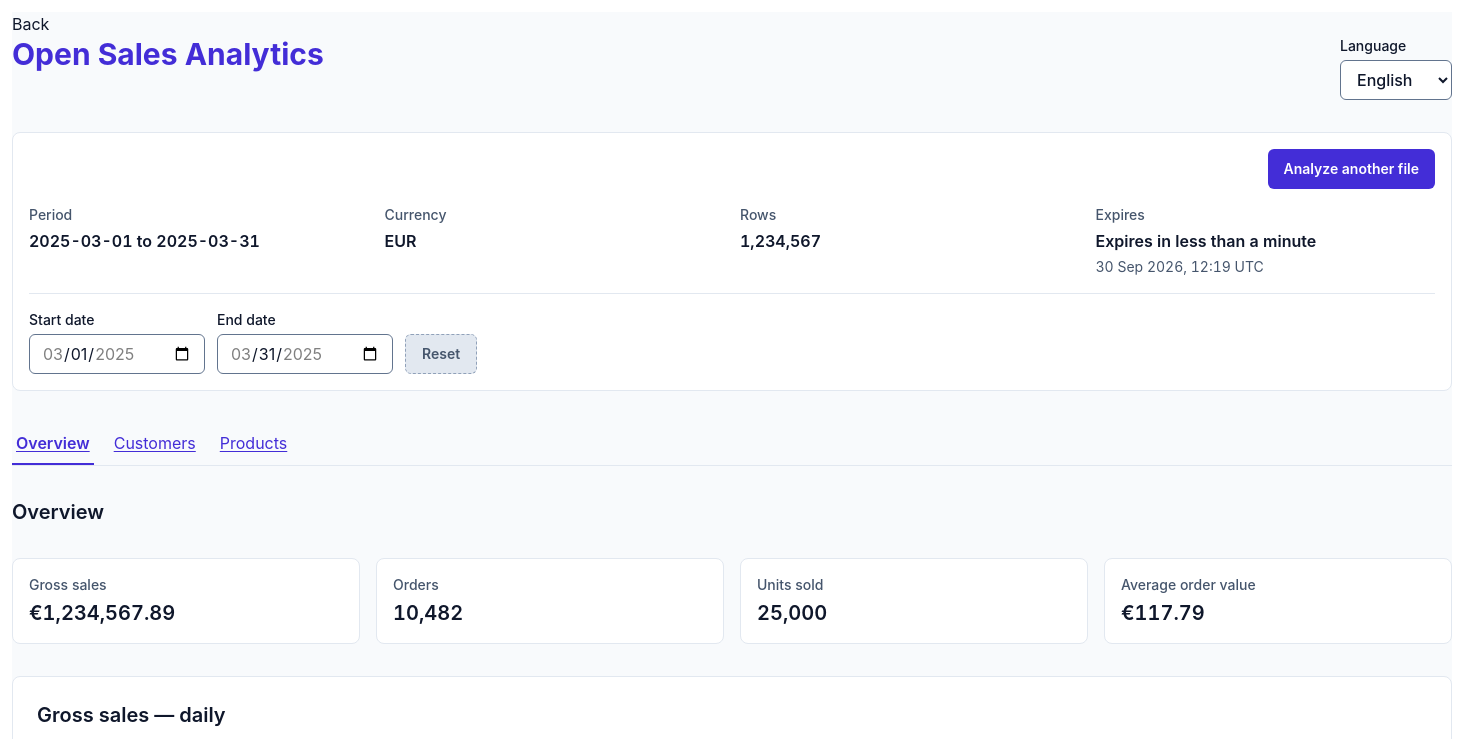
Scenario: start after end shows the inverted message under Start date, sends nothing, and clears when fixed
Expected: the date field showing "2025-03-01" is shown, [29,334,205,374]
Expected: the text "10,482" is shown, [393,601,463,625]
Type "2025-03-10" into the date field labelled "End date" at (305, 354), box [217,334,393,374]
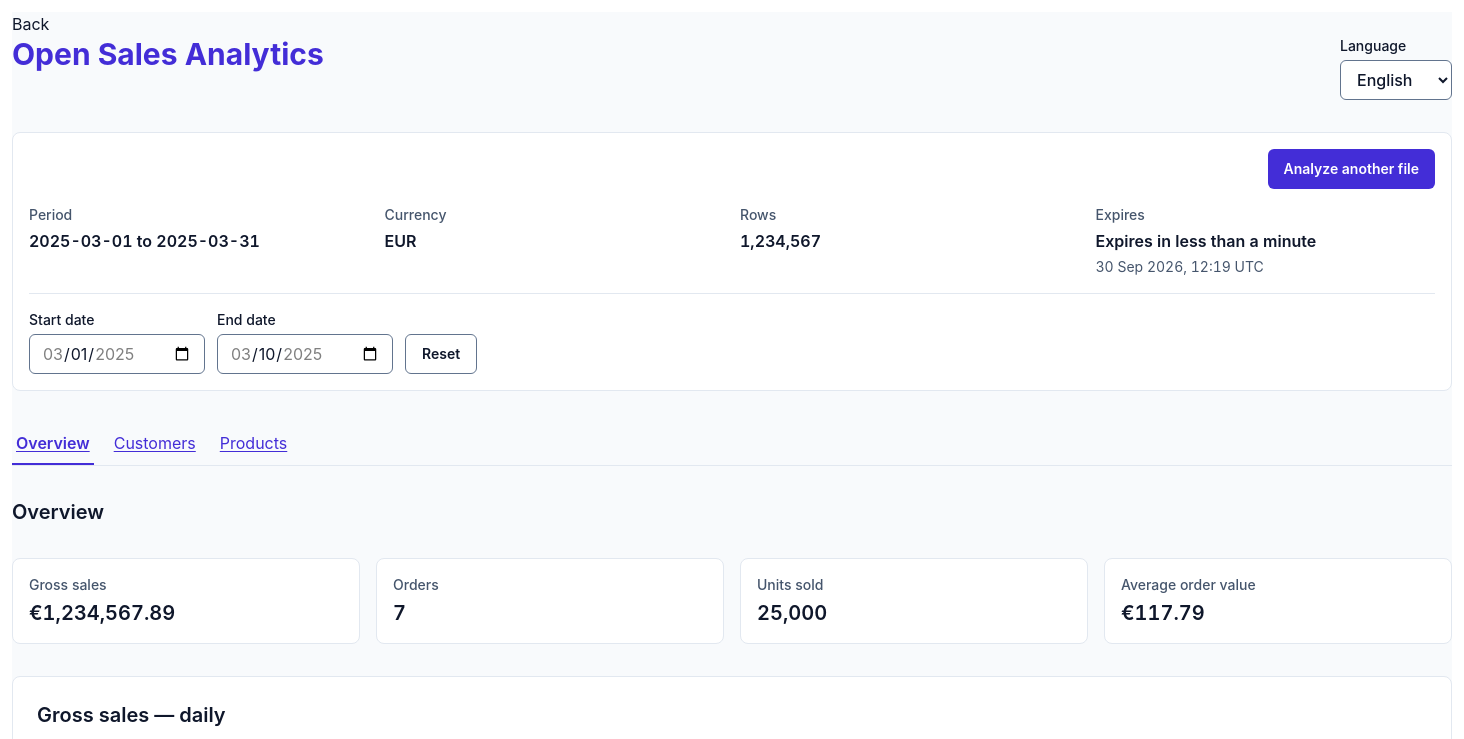
Type "2025-03-20" into the date field labelled "Start date" at (117, 354), box [29,334,205,374]
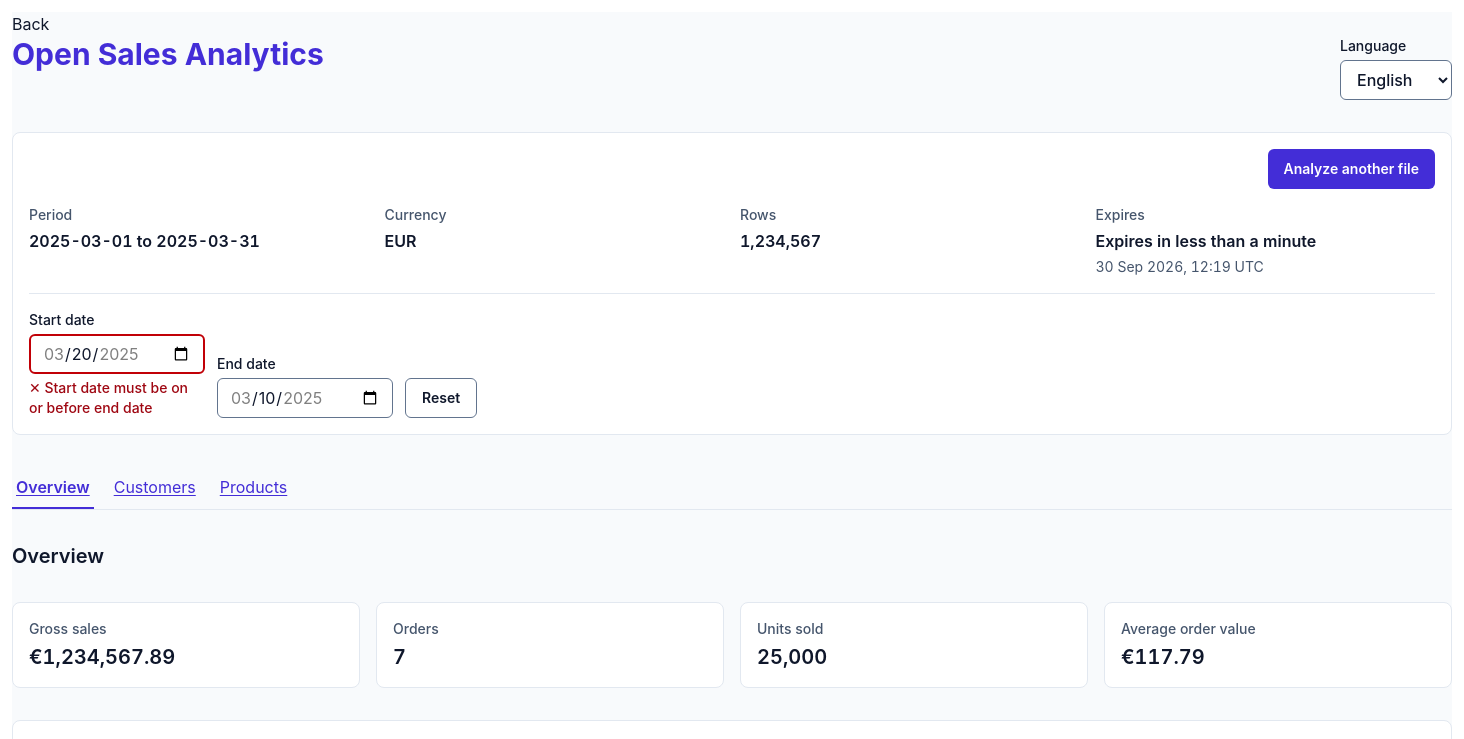
Expected: the date field labelled "Start date" is marked as invalid, [29,334,205,374]
Type "2025-03-25" into the date field labelled "End date" at (305, 398), box [217,378,393,418]
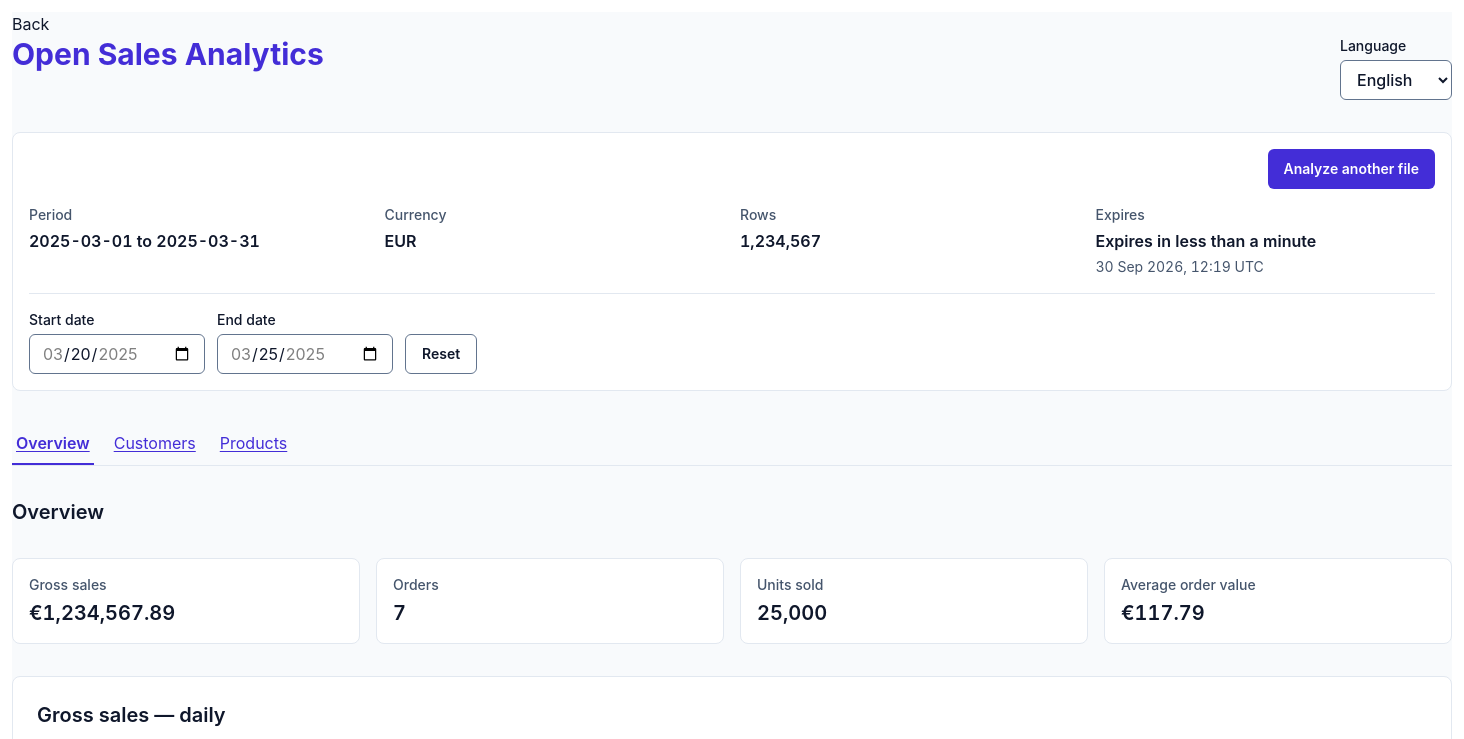
Expected: the message "✕ Start date must be on or before end date" is gone
